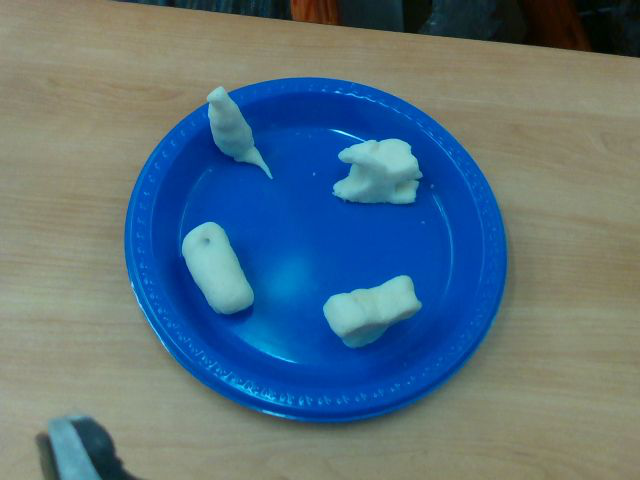mashed_potato: (323, 275, 421, 347), (180, 222, 255, 314), (207, 87, 273, 175), (333, 139, 422, 204)
